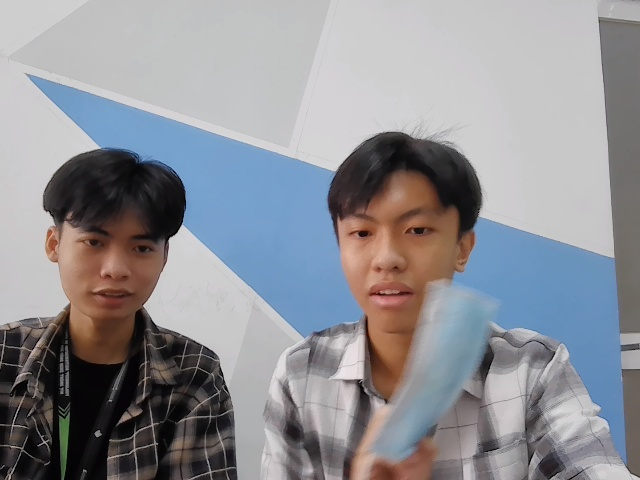human: (328, 131, 490, 325), (47, 151, 184, 315)
mask: (362, 269, 506, 471)
